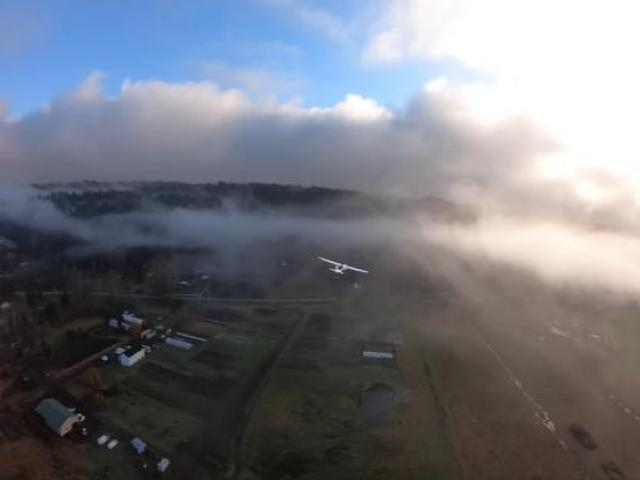uav: (313, 248, 376, 284)
